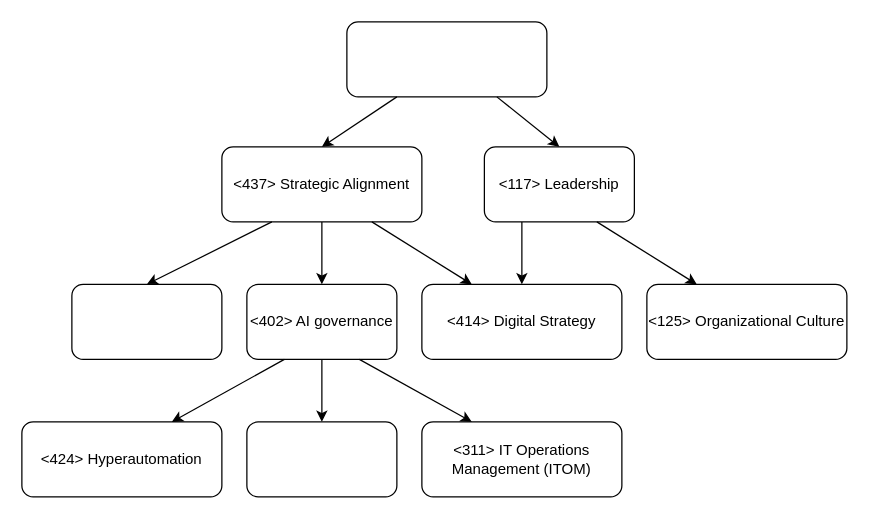
This 869x519 diagram has some shape labels left out. The centre of each missing label's shape, as x and y in pixels:
"<135> Risk" goes at point (321, 459).
"<212> Governance of IT" goes at point (446, 59).
"<324> Shadow IT" goes at point (146, 321).
